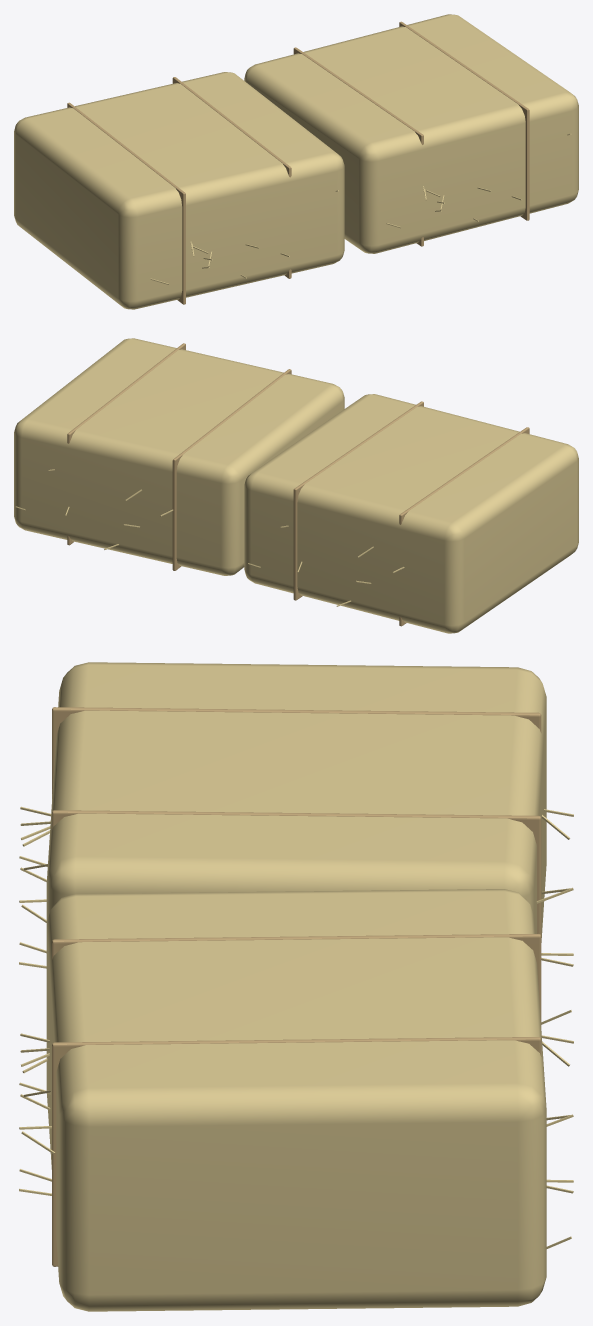
Rendered from hay_bales.glb.
3 views of the same model, one above another, from view 1: azimuth 30°, elevation 25°; view 2: azimuth 150°, elevation 25°; view 3: azimuth 270°, elevation 25° (orthographic). The views are drawn at different scales.
Parts seen in each view (by area): view 1: SM_hay_bales; view 2: SM_hay_bales; view 3: SM_hay_bales.
Boxes of the visible parts, x1,y1,x2,y2 form: SM_hay_bales: (14, 14, 578, 309); SM_hay_bales: (14, 338, 578, 633); SM_hay_bales: (19, 662, 573, 1311).
Bounding box in the file's own units: 2.17 × 0.505 × 1.14.
